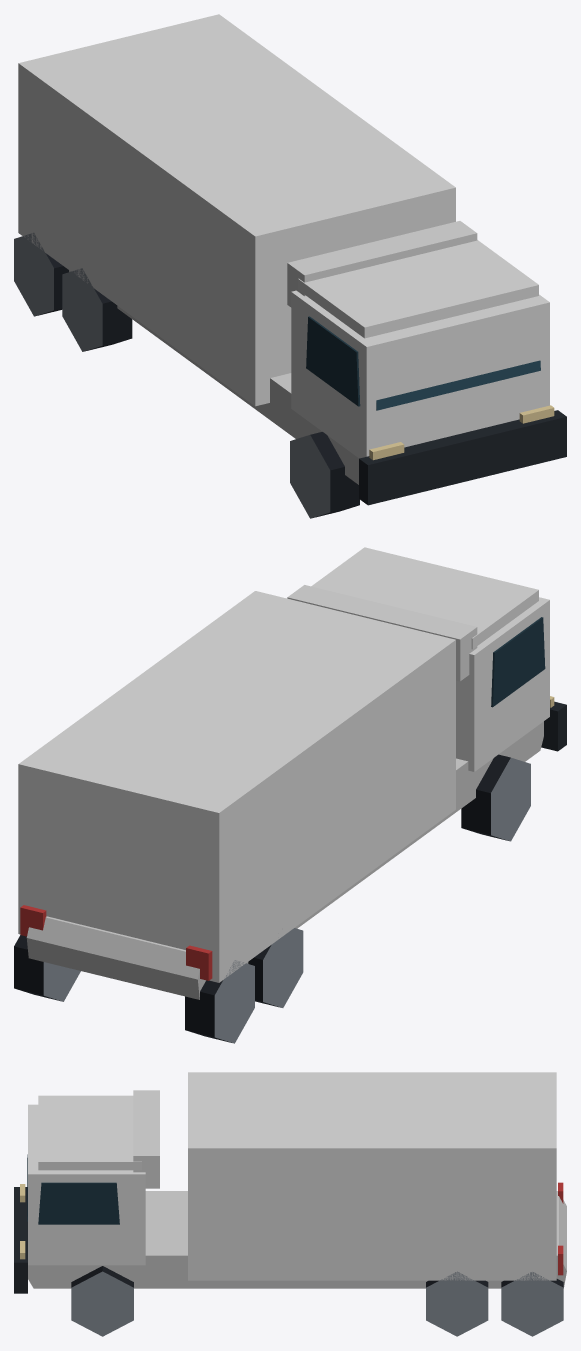
The model's file is car_truck_lod1-DlRqNPiw.glb.
The picture shows the model from 3 angles, top to bottom: view 1: azimuth 30°, elevation 25°; view 2: azimuth 150°, elevation 25°; view 3: azimuth 270°, elevation 25°; orthographic projection. The views are drawn at different scales.
Parts seen in each view (by area): view 1: paint, trim; view 2: paint, trim; view 3: paint, trim.
Boxes of the visible parts, x1=… form: paint: x1=18, y1=14, x2=549, y2=484; trim: x1=14, y1=232, x2=566, y2=518; paint: x1=18, y1=547, x2=549, y2=999; trim: x1=14, y1=617, x2=566, y2=1043; paint: x1=28, y1=1072, x2=566, y2=1288; trim: x1=14, y1=1154, x2=563, y2=1336.
Size of the model in its own units: 2.3 by 2.65 by 7.05.
